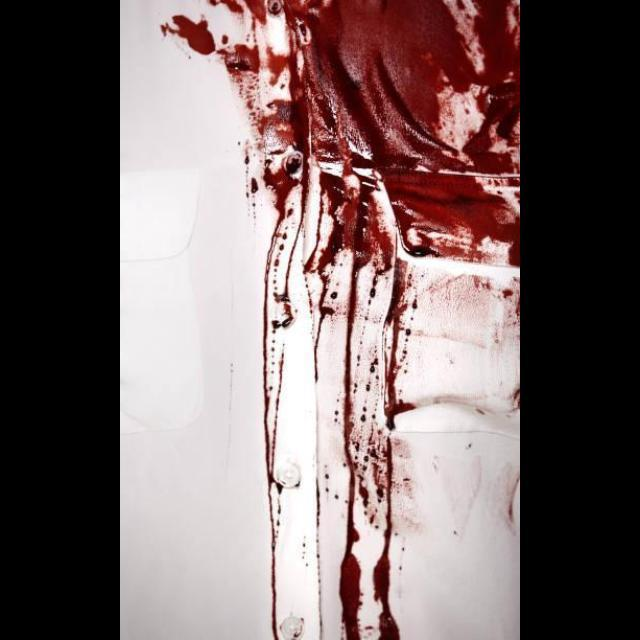blood: (163, 0, 521, 639)
